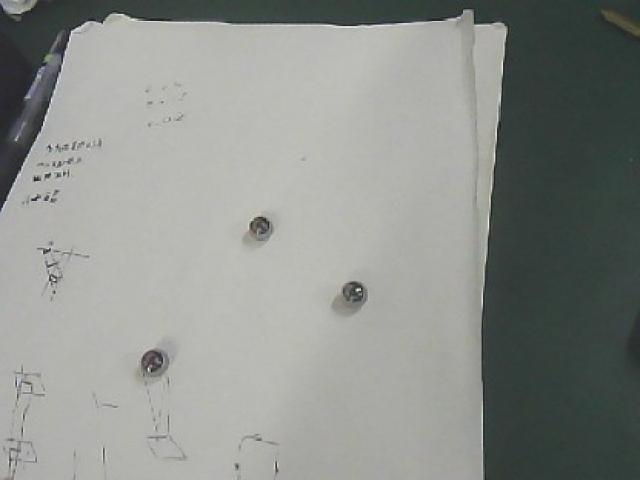steel-ball: (323, 249, 382, 317), (128, 337, 180, 388), (236, 197, 284, 241)
